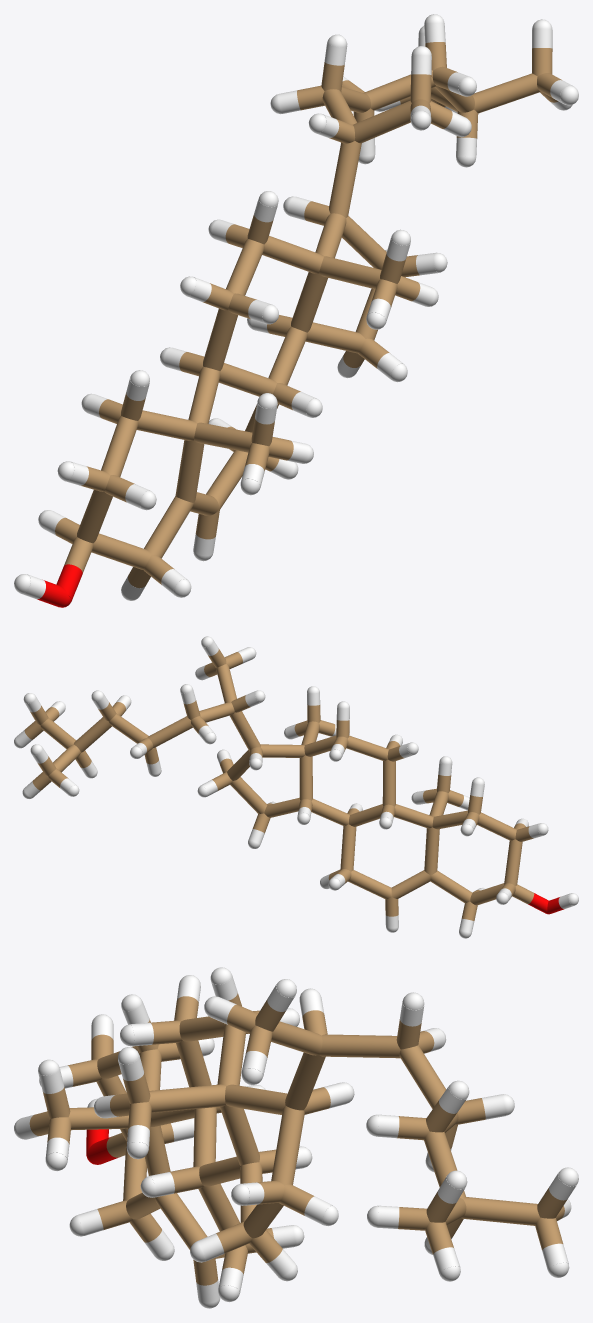
Rendered from colesterol.fbx.
3 renders of one model, top to bottom at view 1: azimuth 30°, elevation 25°; view 2: azimuth 150°, elevation 25°; view 3: azimuth 270°, elevation 25°, orthographic. The views are drawn at different scales.
Visible parts, largest first — view 1: subnode_0; view 2: subnode_0; view 3: subnode_0.
Boxes of the visible parts, x1=… form: subnode_0: x1=14, y1=14, x2=578, y2=607; subnode_0: x1=14, y1=636, x2=578, y2=938; subnode_0: x1=14, y1=967, x2=578, y2=1308.
Size of the model in its own units: 16.2 by 9.2 by 10.16.
